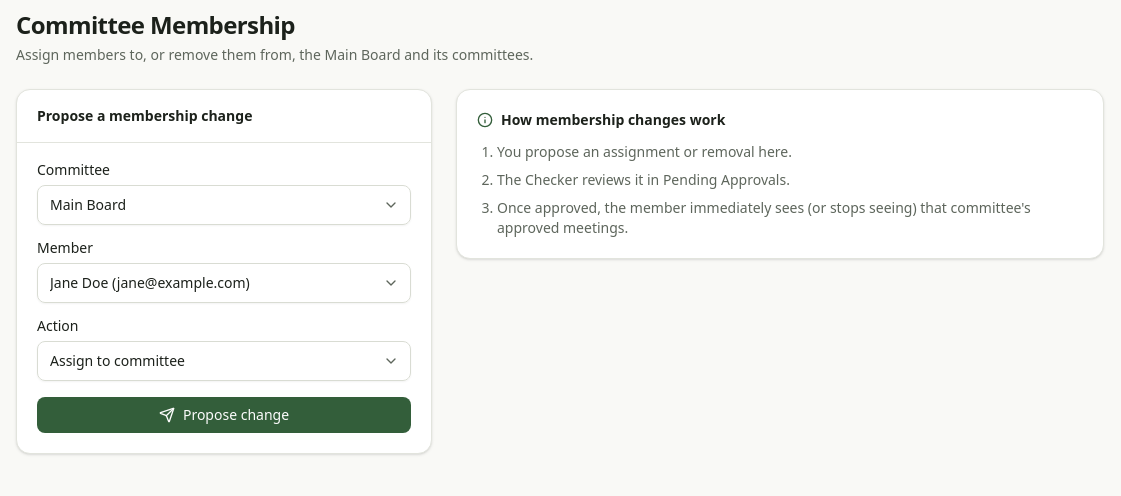
Test: AdminCommitteeMembership › shows an inline, labelled validation error per field on a 400 response
The width and height of the screenshot is (1121, 496).
What coordinates should you click on to do the following:
click the button "Propose change"
I would click on:
 (224, 415)
Its box is top-left (37, 397), bottom-right (411, 433).
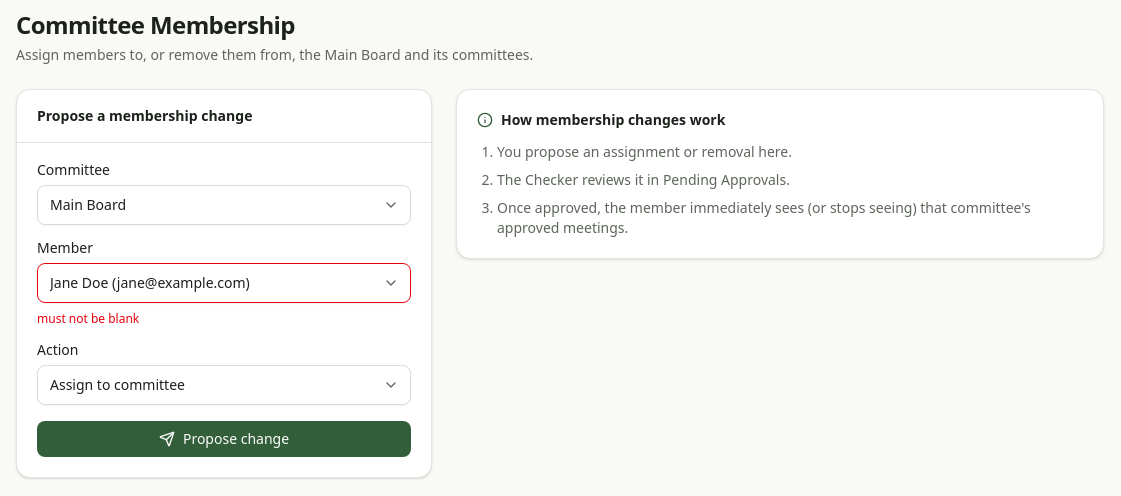
expect the text "must not be blank" is shown: met, box top-left (37, 310), bottom-right (139, 327)
